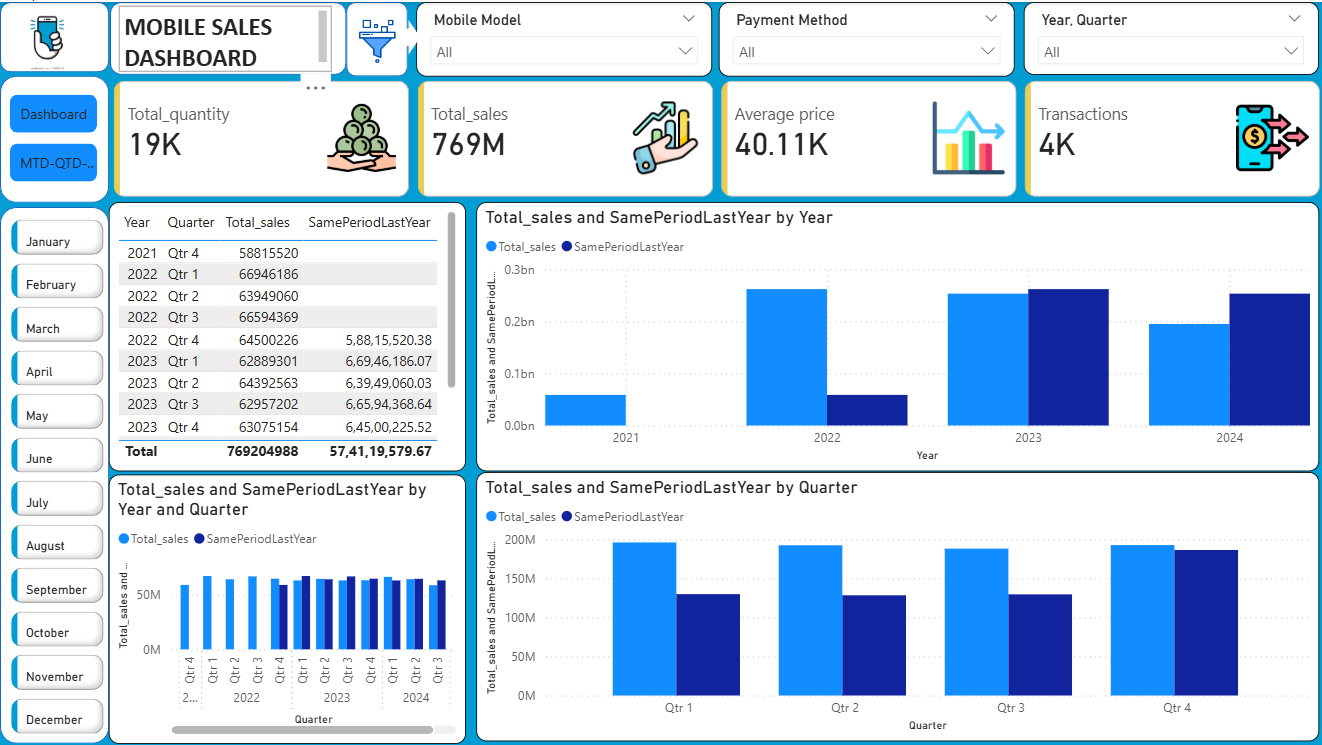

The page's visual inventory and layout, read from the dashboard file:
{"tool":"powerbi","page":{"name":"SamePeriodLastYear","canvas":[1280,720],"ordinal":2},"visuals":[{"type":"shape","box":[0,0,105.3,67.8],"z":0},{"type":"image","box":[7.2,2.9,76.5,67.8],"z":1000},{"type":"shape","box":[0,70.7,105.3,122.6],"z":2000},{"type":"cardVisual","fields":{"Data":["Mobile_Sales_Data.Total_quantity","Mobile_Sales_Data.Total_sales","Mobile_Sales_Data.Average price","Mobile_Sales_Data.Transactions"]},"box":[105.2,71.4,1175.3,122.1],"z":3000},{"type":"slicer","fields":{"Values":["Mobile_Sales_Data.Mobile Model"]},"box":[401.6,0,285.9,71.9],"z":4000},{"type":"slicer","fields":{"Values":["Mobile_Sales_Data.Payment Method"]},"box":[693.8,0,285.9,71.9],"z":5000},{"type":"slicer","fields":{"Values":["Customer_Calendar.Date.Variation.Date Hierarchy.Year","Customer_Calendar.Date.Variation.Date Hierarchy.Quarter"]},"box":[988.3,0,284.4,70.1],"z":6000},{"type":"shape","box":[334.4,0,59.4,71.9],"z":7000},{"type":"image","box":[337.5,10.9,53.1,54.7],"z":8000},{"type":"shape","box":[382.8,17.2,23.4,34.4],"z":9000},{"type":"shape","box":[106.2,0,228.1,70.3],"z":10000},{"type":"textbox","box":[114.1,3.1,206,64],"z":11000},{"type":"shape","box":[0,197.7,105.3,518],"z":12000},{"type":"advancedSlicerVisual","fields":{"Values":["Customer_Calendar.Date.Variation.Date Hierarchy.Month"]},"box":[5.8,204.9,99.6,506.4],"z":13000},{"type":"tableEx","fields":{"Values":["Customer_Calendar.Date.Variation.Date Hierarchy.Year","Customer_Calendar.Date.Variation.Date Hierarchy.Quarter","Mobile_Sales_Data.Total_sales","Mobile_Sales_Data.SamePeriodLatYear"]},"box":[105.6,193.1,344.4,259.7],"z":14000},{"type":"clusteredColumnChart","fields":{"Category":["Customer_Calendar.Date.Variation.Date Hierarchy.Year","Customer_Calendar.Date.Variation.Date Hierarchy.Quarter"],"Y":["Mobile_Sales_Data.Total_sales","Mobile_Sales_Data.SamePeriodLastYear"]},"box":[459.7,193.1,813.9,259.7],"z":15000},{"type":"clusteredColumnChart","fields":{"Category":["Customer_Calendar.Date.Variation.Date Hierarchy.Year","Customer_Calendar.Date.Variation.Date Hierarchy.Quarter"],"Y":["Mobile_Sales_Data.Total_sales","Mobile_Sales_Data.SamePeriodLastYear"]},"box":[459.7,454.2,813.9,259.7],"z":16000},{"type":"clusteredColumnChart","fields":{"Category":["Customer_Calendar.Date.Variation.Date Hierarchy.Year","Customer_Calendar.Date.Variation.Date Hierarchy.Quarter"],"Y":["Mobile_Sales_Data.Total_sales","Mobile_Sales_Data.SamePeriodLastYear"]},"box":[105.6,455.6,344.4,259.7],"z":17000},{"type":"pageNavigator","box":[9.7,88.9,84.7,84.7],"z":18000}]}

Visuals, with their boxes in screenshot pixels (x1, y1, x2, y2), scaled from the page's 1280x720 canvas onto the 1322x745 screenshot:
shape: 0/0/109/70
image: 7/3/86/73
shape: 0/73/109/200
cardVisual - Mobile_Sales_Data.Total_quantity x Mobile_Sales_Data.Total_sales: 109/74/1321/200
slicer - Mobile_Sales_Data.Mobile Model: 415/0/710/74
slicer - Mobile_Sales_Data.Payment Method: 717/0/1012/74
slicer - Customer_Calendar.Date.Variation.Date Hierarchy.Year x Customer_Calendar.Date.Variation.Date Hierarchy.Quarter: 1021/0/1314/73
shape: 345/0/407/74
image: 349/11/403/68
shape: 395/18/420/53
shape: 110/0/345/73
textbox: 118/3/331/69
shape: 0/205/109/741
advancedSlicerVisual - Customer_Calendar.Date.Variation.Date Hierarchy.Month: 6/212/109/736
tableEx - Customer_Calendar.Date.Variation.Date Hierarchy.Year x Customer_Calendar.Date.Variation.Date Hierarchy.Quarter: 109/200/465/469
clusteredColumnChart - Customer_Calendar.Date.Variation.Date Hierarchy.Year x Customer_Calendar.Date.Variation.Date Hierarchy.Quarter: 475/200/1315/469
clusteredColumnChart - Customer_Calendar.Date.Variation.Date Hierarchy.Year x Customer_Calendar.Date.Variation.Date Hierarchy.Quarter: 475/470/1315/739
clusteredColumnChart - Customer_Calendar.Date.Variation.Date Hierarchy.Year x Customer_Calendar.Date.Variation.Date Hierarchy.Quarter: 109/471/465/740
pageNavigator: 10/92/97/180
